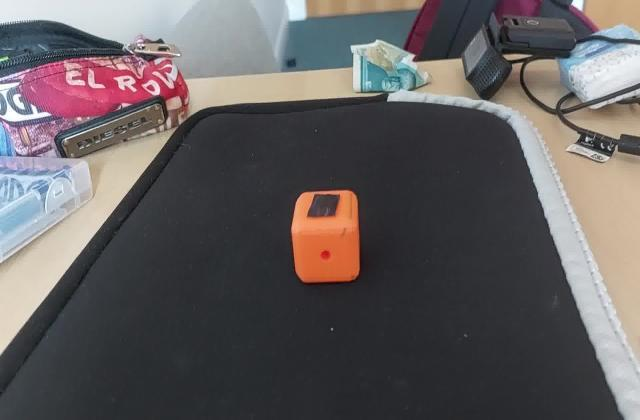black: (302, 192, 346, 222)
cube: (288, 185, 362, 286)
